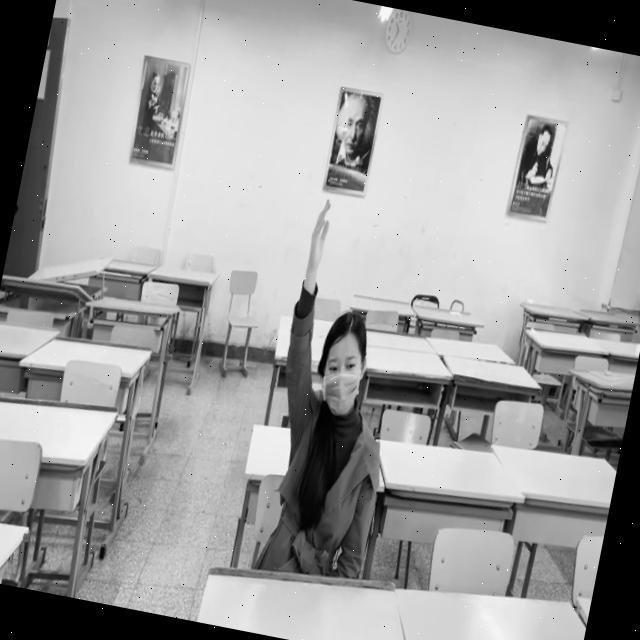study: (249, 198, 424, 575)
